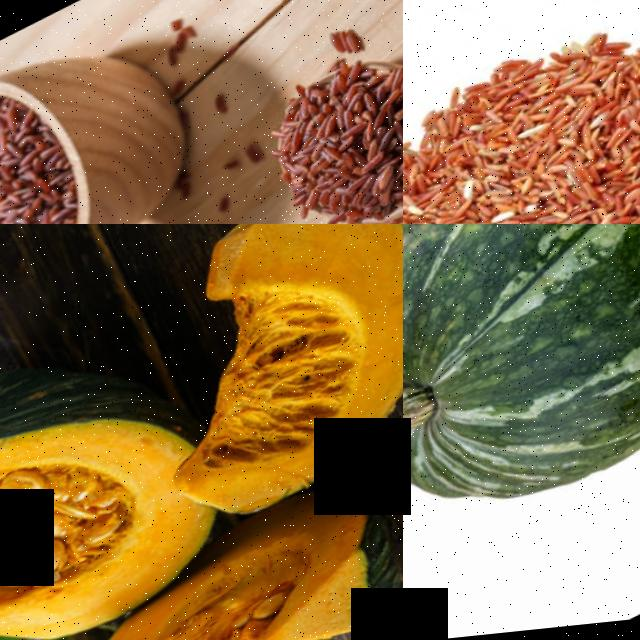pumpkin: (72, 224, 403, 549), (403, 224, 640, 592), (0, 300, 230, 640), (42, 478, 403, 640)
red rice: (403, 0, 640, 224), (232, 47, 403, 224), (0, 78, 102, 224)
